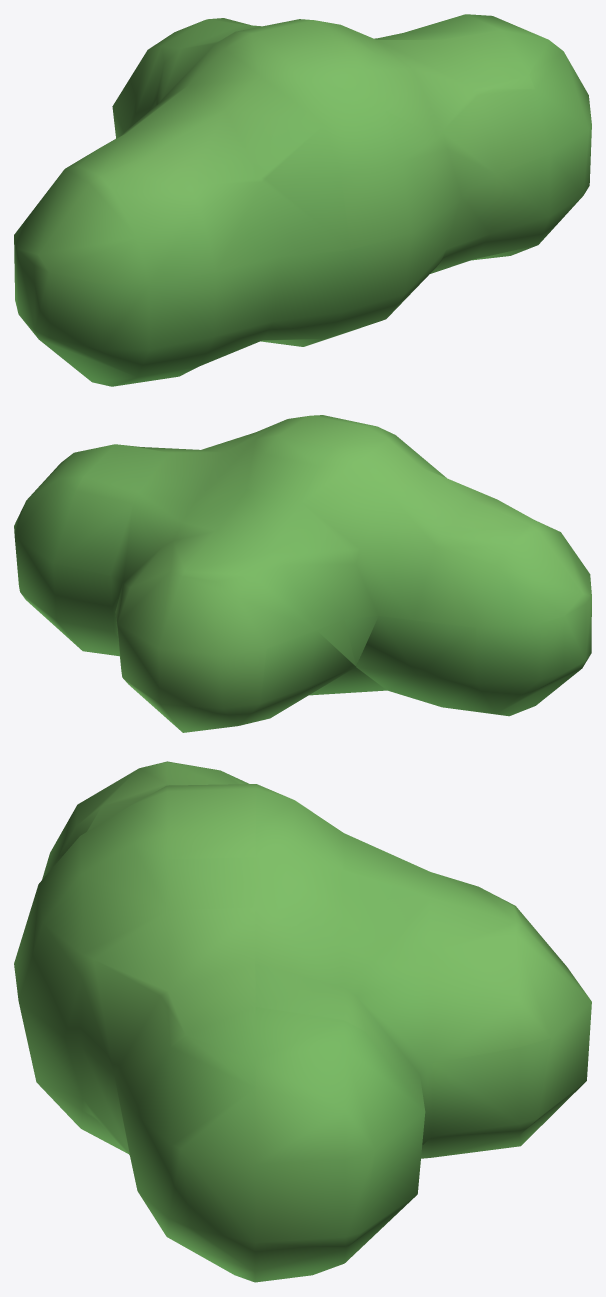
The model's file is Bush.fbx.
The picture shows the model from 3 angles, top to bottom: view 1: azimuth 30°, elevation 25°; view 2: azimuth 150°, elevation 25°; view 3: azimuth 270°, elevation 25°; orthographic projection. The views are drawn at different scales.
Parts seen in each view (by area): view 1: Bush_Body; view 2: Bush_Body; view 3: Bush_Body.
Part boxes in pixels (<box>): Bush_Body: <box>14,14,591,386</box>; Bush_Body: <box>14,415,591,732</box>; Bush_Body: <box>14,761,591,1282</box>.
Size of the model in its own units: 1.33 by 0.6063 by 0.9224.
